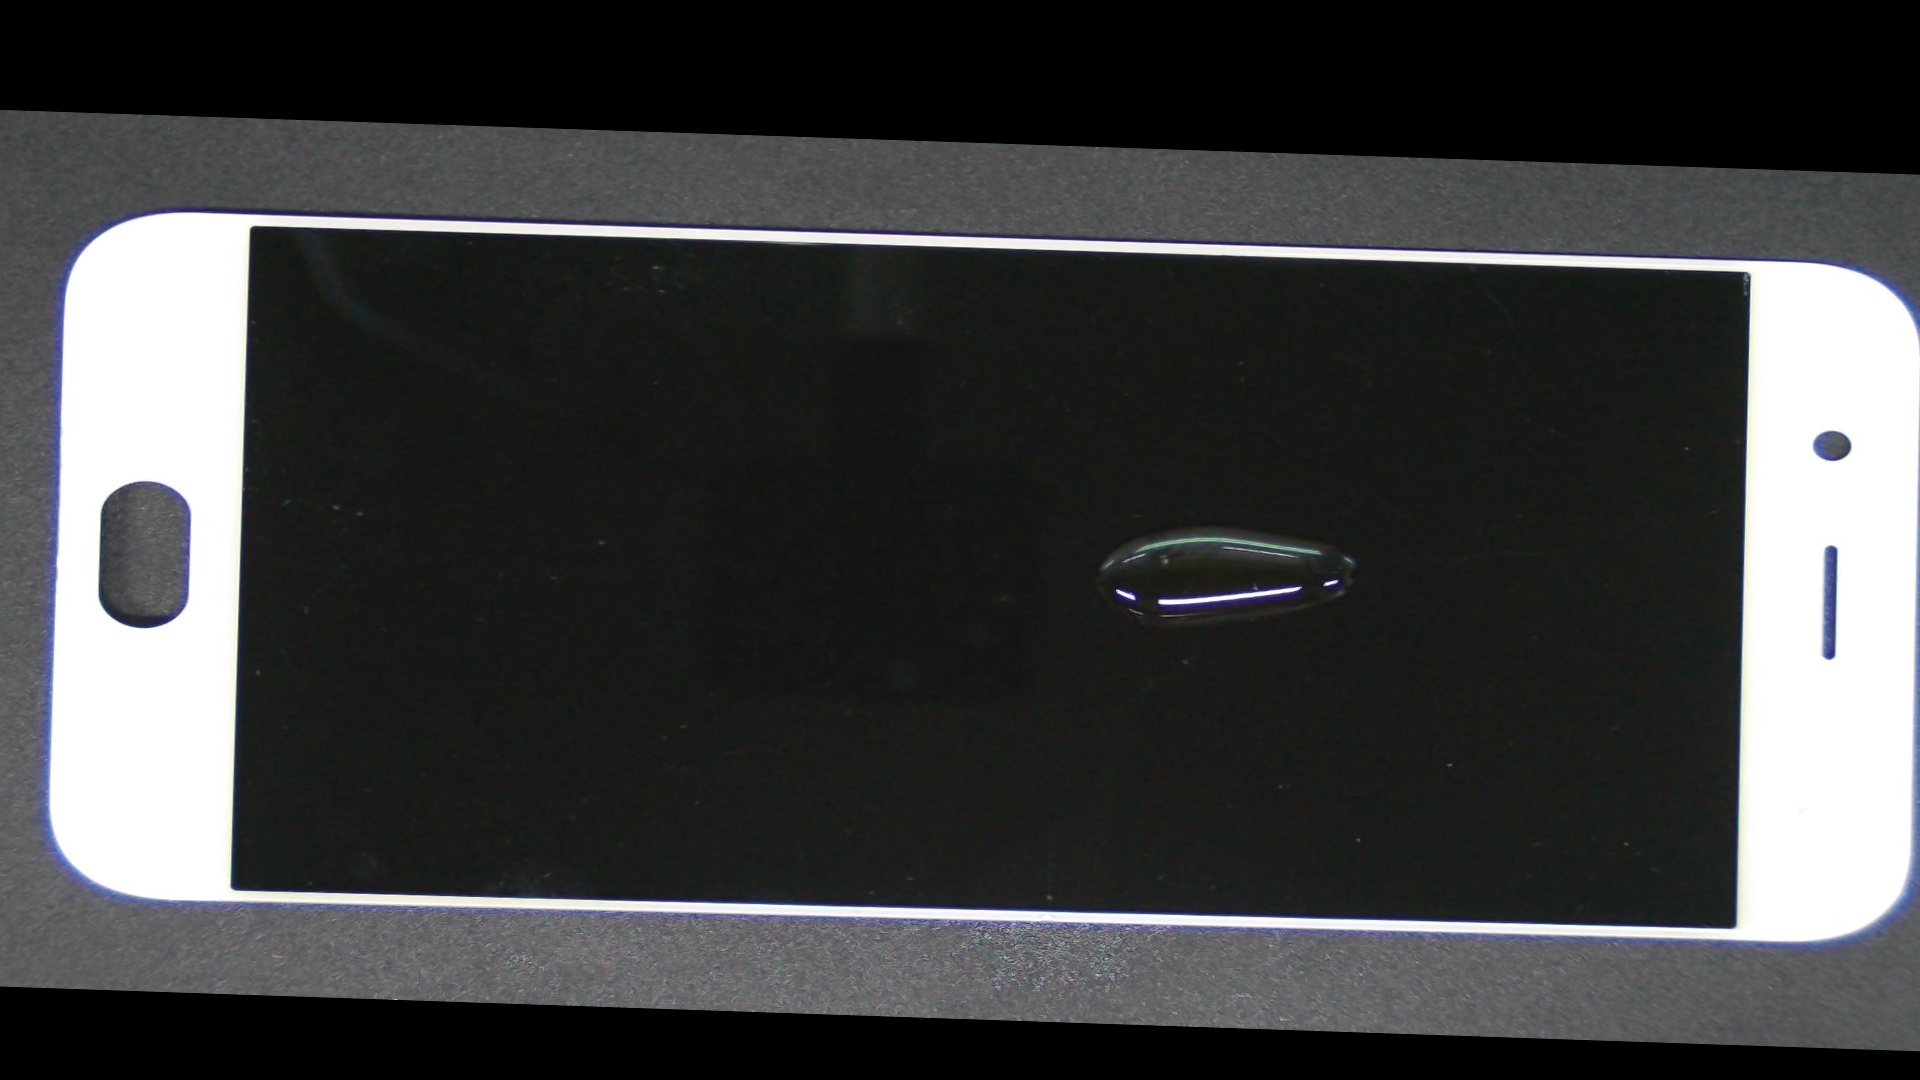oil: (584, 316, 1833, 733)
